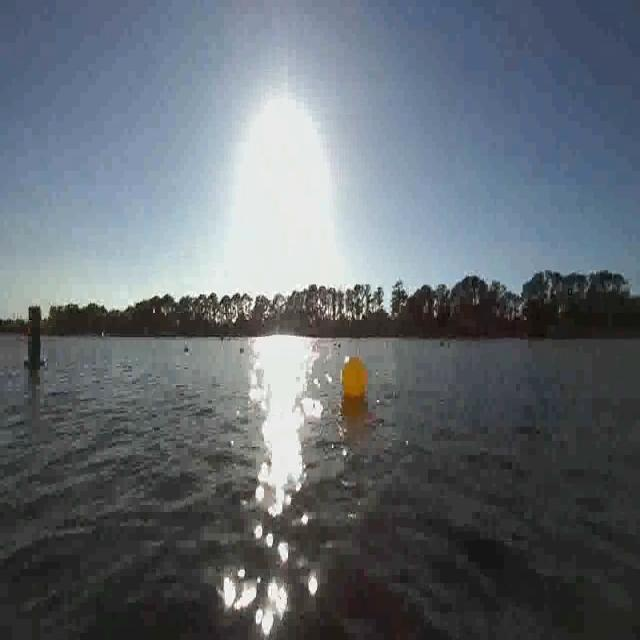green-column-buoy: (24, 305, 45, 370)
yellow-buoy: (341, 356, 369, 400)
